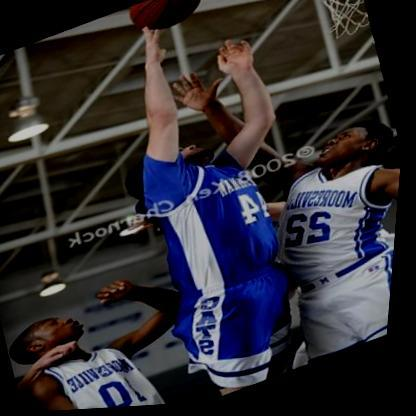basketball: (124, 0, 212, 41)
